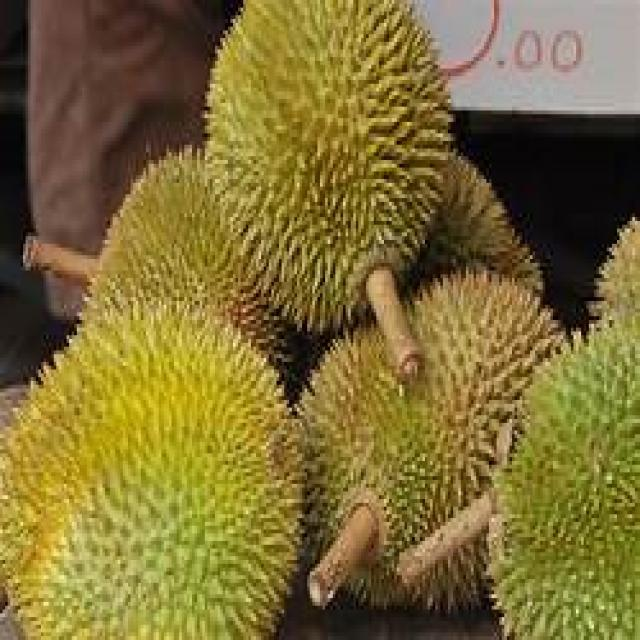mature: (0, 305, 301, 637), (208, 2, 451, 330)
